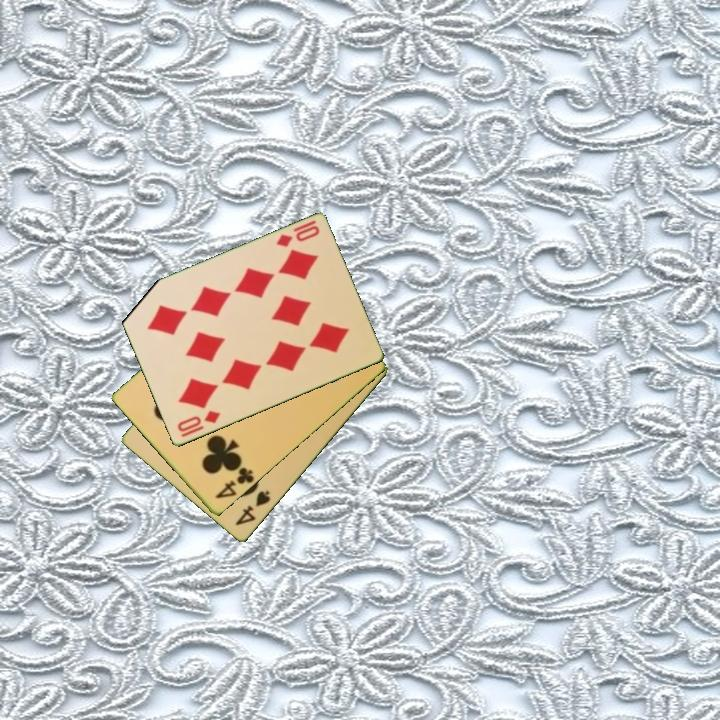10d: (272, 217, 322, 250), (173, 407, 223, 435)
4c: (212, 461, 257, 502)
4s: (231, 487, 273, 529)
